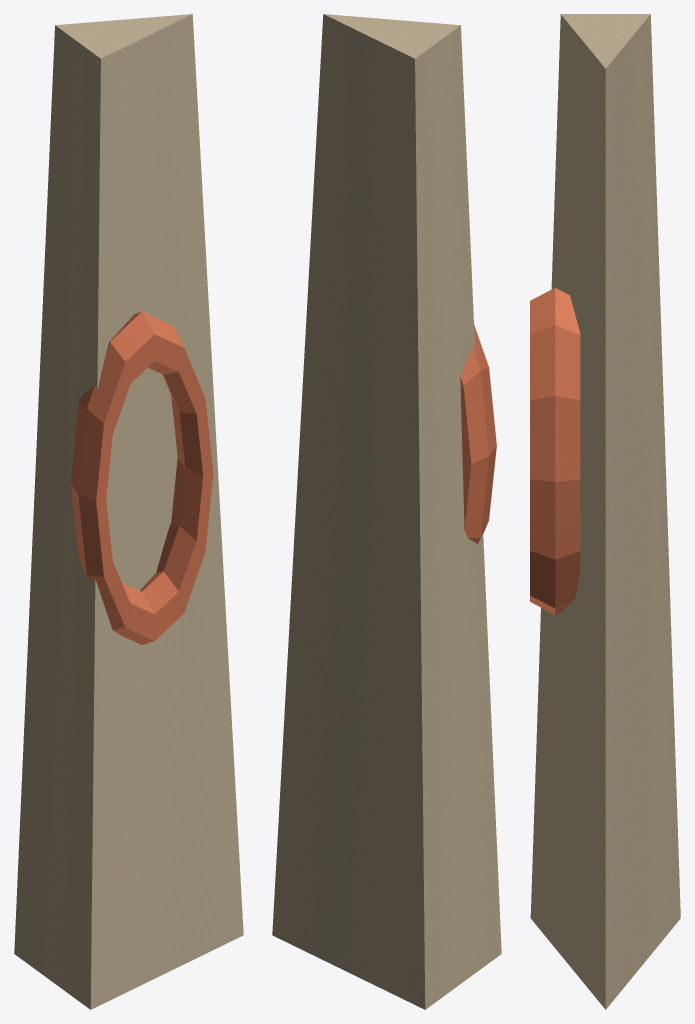
The model's file is atlas100-s041-a05.lod1.glb.
3 renders of one model, left to right at view 1: azimuth 30°, elevation 25°; view 2: azimuth 150°, elevation 25°; view 3: azimuth 270°, elevation 25°, orthographic.
Visible parts, largest first — view 1: atlas100-s041-a05:part-000, atlas100-s041-a05:part-001; view 2: atlas100-s041-a05:part-000, atlas100-s041-a05:part-001; view 3: atlas100-s041-a05:part-000, atlas100-s041-a05:part-001.
Part boxes in pixels (box(x1,y1,x2,y2)): atlas100-s041-a05:part-000: box(14, 14, 243, 1009); atlas100-s041-a05:part-001: box(70, 311, 213, 644); atlas100-s041-a05:part-000: box(272, 14, 501, 1009); atlas100-s041-a05:part-001: box(460, 325, 496, 543); atlas100-s041-a05:part-000: box(530, 14, 680, 1009); atlas100-s041-a05:part-001: box(530, 287, 580, 614).
Size of the model in its own units: 0.1638 by 0.7644 by 0.1139.
2 materials, 2 textured.
